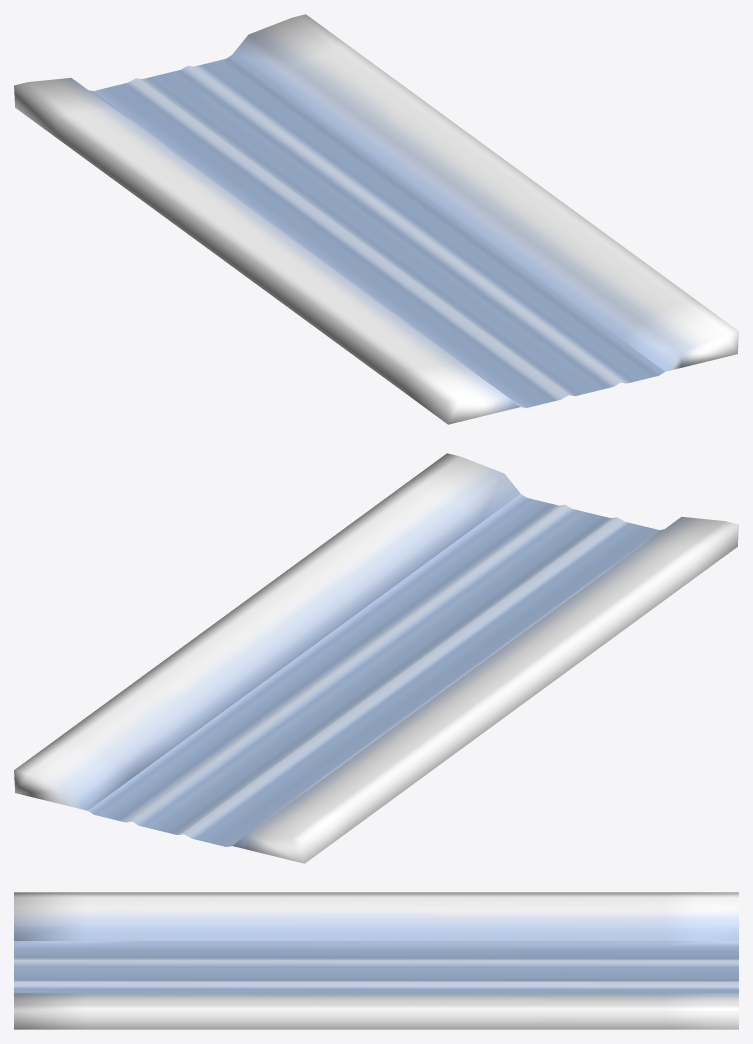
Rendered from environmentplane2.fbx.
3 renders of one model, top to bottom at view 1: azimuth 30°, elevation 25°; view 2: azimuth 150°, elevation 25°; view 3: azimuth 270°, elevation 25°, orthographic. The views are drawn at different scales.
Parts seen in each view (by area): view 1: baseplane, baseplane2; view 2: baseplane, baseplane2; view 3: baseplane, baseplane2.
Boxes of the visible parts, x1,y1,x2,y2 form: baseplane: [14, 14, 738, 424]; baseplane2: [89, 55, 664, 407]; baseplane: [14, 453, 738, 863]; baseplane2: [88, 494, 663, 846]; baseplane: [14, 892, 738, 1029]; baseplane2: [14, 941, 738, 993].
Size of the model in its own units: 857 by 70.14 by 2202.
